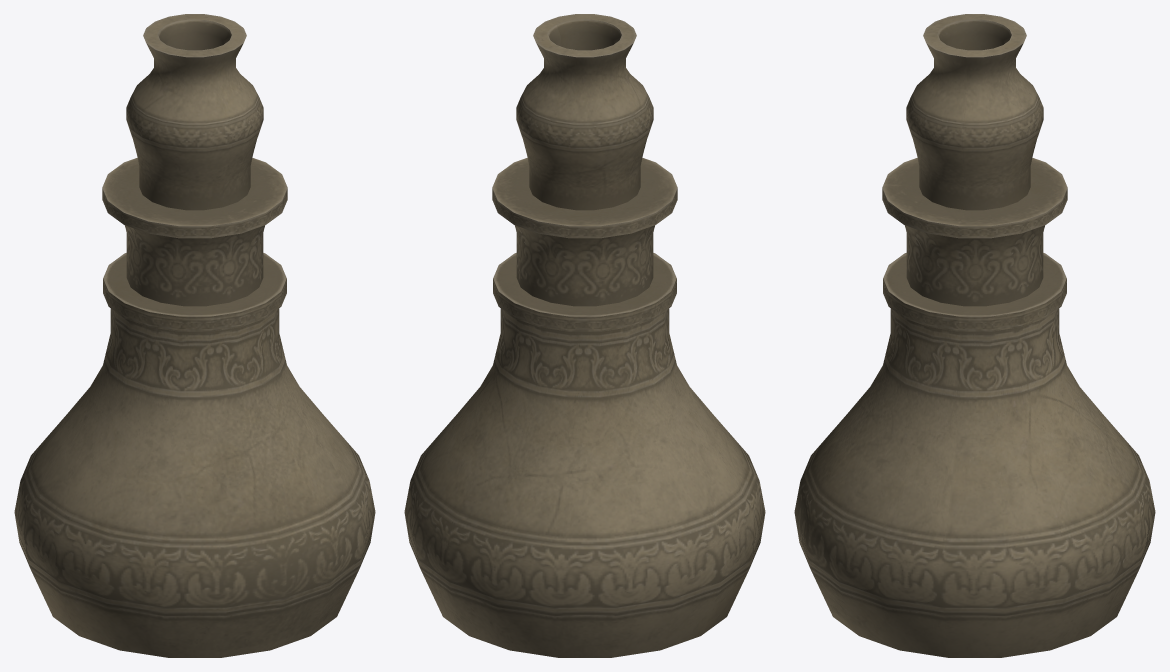
The model's file is SM_vase_1.fbx.
The picture shows the model from 3 angles, left to right: view 1: azimuth 30°, elevation 25°; view 2: azimuth 150°, elevation 25°; view 3: azimuth 270°, elevation 25°; orthographic projection.
Parts seen in each view (by area): view 1: SM_vase_1_LOD0; view 2: SM_vase_1_LOD0; view 3: SM_vase_1_LOD0.
Boxes of the visible parts, left/top/right/bottom form: SM_vase_1_LOD0: left=14, top=14, right=375, bottom=657; SM_vase_1_LOD0: left=404, top=14, right=765, bottom=657; SM_vase_1_LOD0: left=794, top=14, right=1155, bottom=657.
Size of the model in its own units: 56.46 by 57.33 by 98.11.
